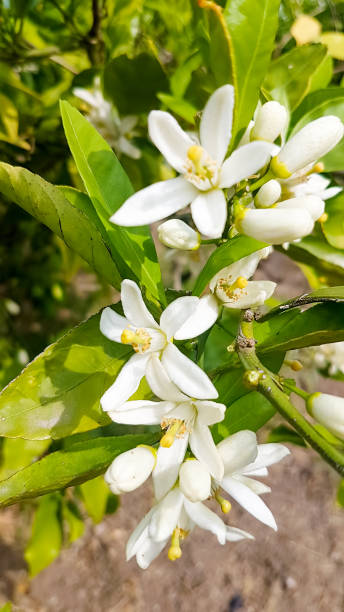flower: (117, 91, 268, 241), (90, 279, 220, 407), (214, 431, 291, 533), (129, 496, 236, 569)
